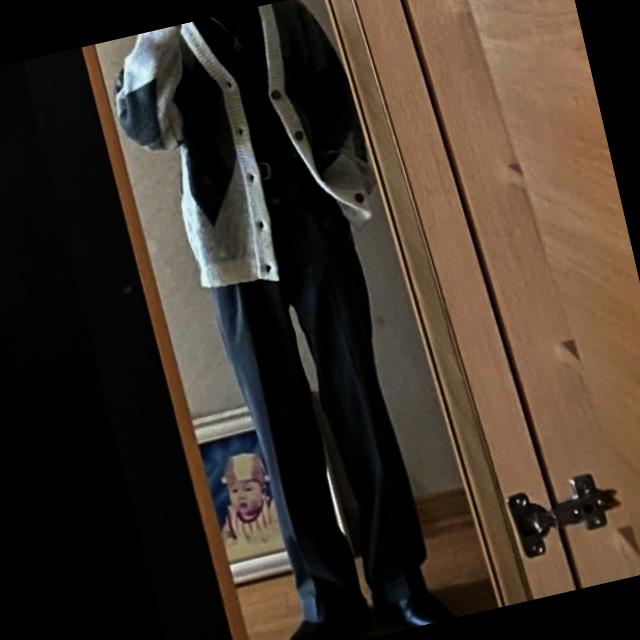cardigan: (101, 0, 390, 302)
slacks: (190, 182, 442, 633)
